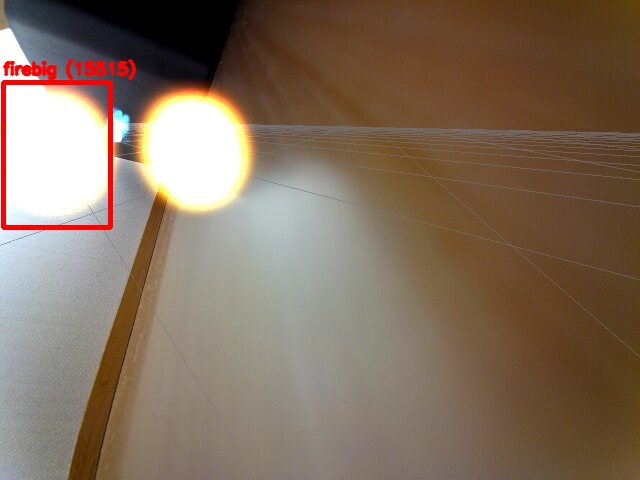firebig: (3, 82, 110, 227)
